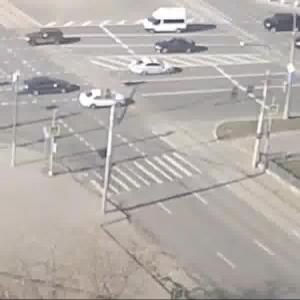car: (143, 8, 192, 35), (149, 39, 209, 58), (25, 74, 70, 98), (257, 14, 300, 39), (85, 88, 134, 108), (21, 27, 65, 47), (130, 60, 182, 76)
